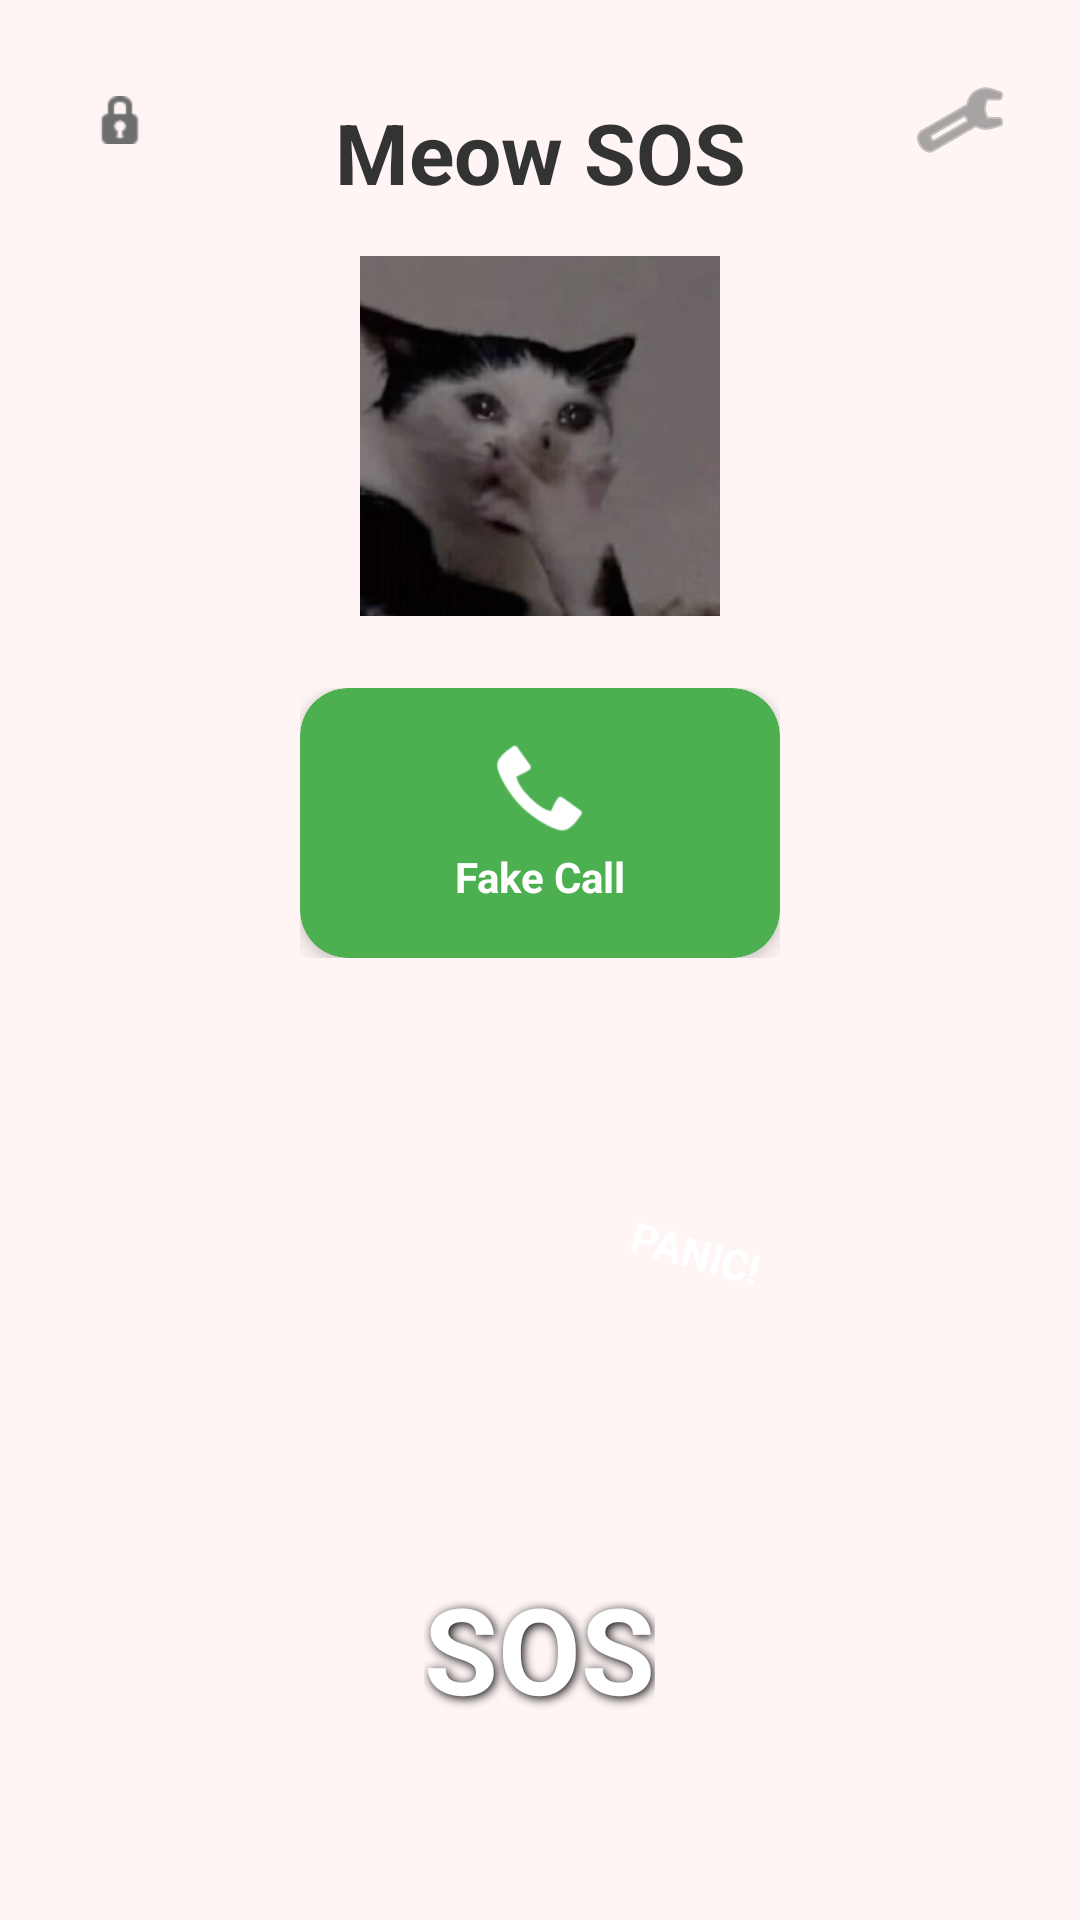

Screen size 1080px×1920px. Icon name, then its box in pixels as [x1,y1,x2,y2]:
phone call: [497,745,583,831]
pleading cat: [360,256,720,616]
preferences: [917,87,1003,153]
secure: [101,96,139,144]
